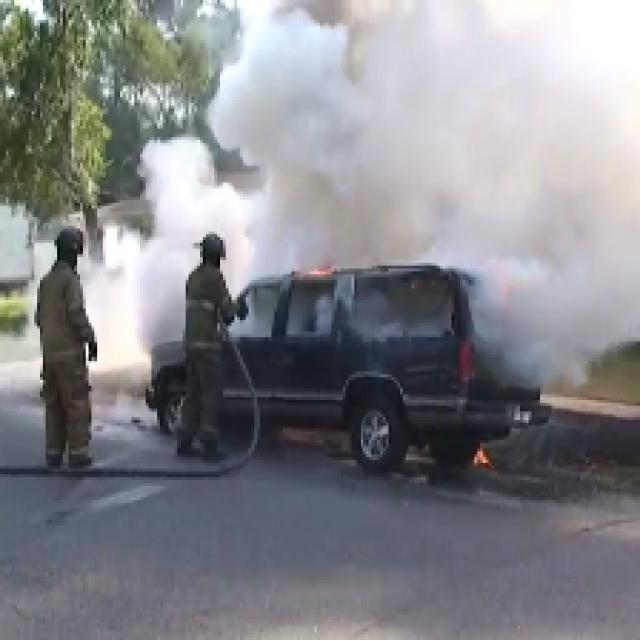smoke: (238, 25, 638, 267), (130, 148, 225, 333), (474, 272, 640, 377)
